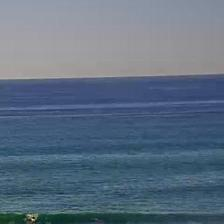surfer: (31, 214, 36, 220)
